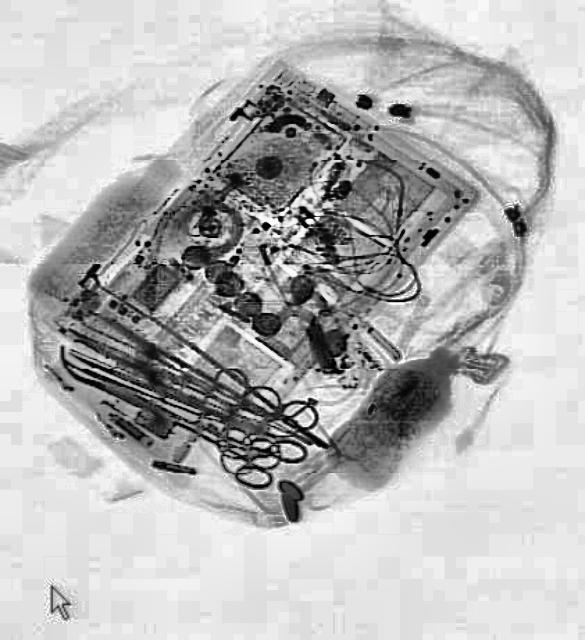Scissors: (174, 388, 310, 506)
